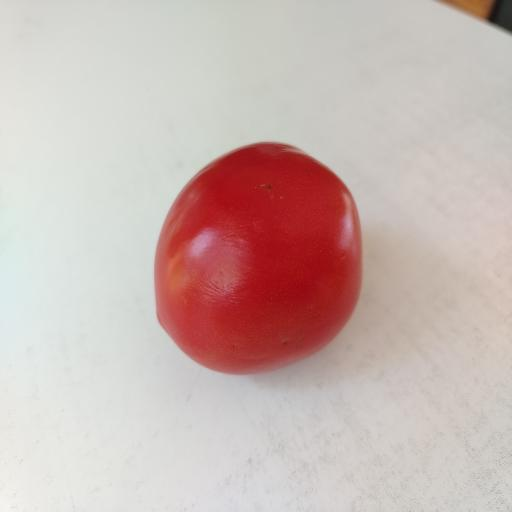overipe: (155, 143, 362, 374)
